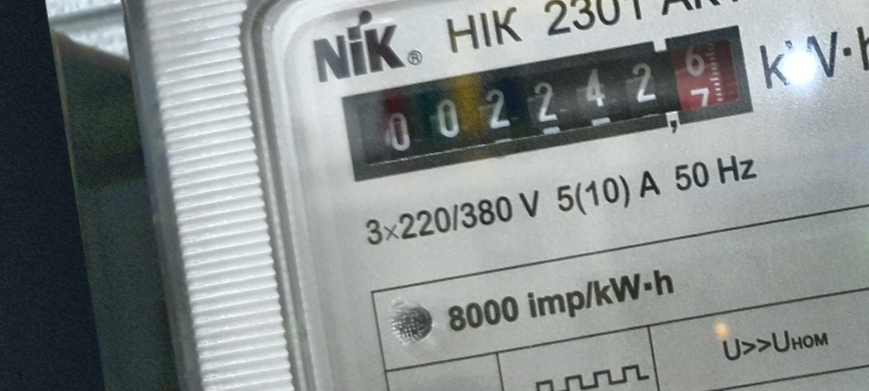0: (433, 95, 464, 141), (386, 107, 415, 155), (484, 85, 514, 131)
2: (629, 59, 660, 106), (532, 78, 562, 125)
4: (580, 65, 610, 111)
6: (682, 43, 710, 79)
7: (689, 85, 715, 110)
screen: (329, 12, 774, 198)
